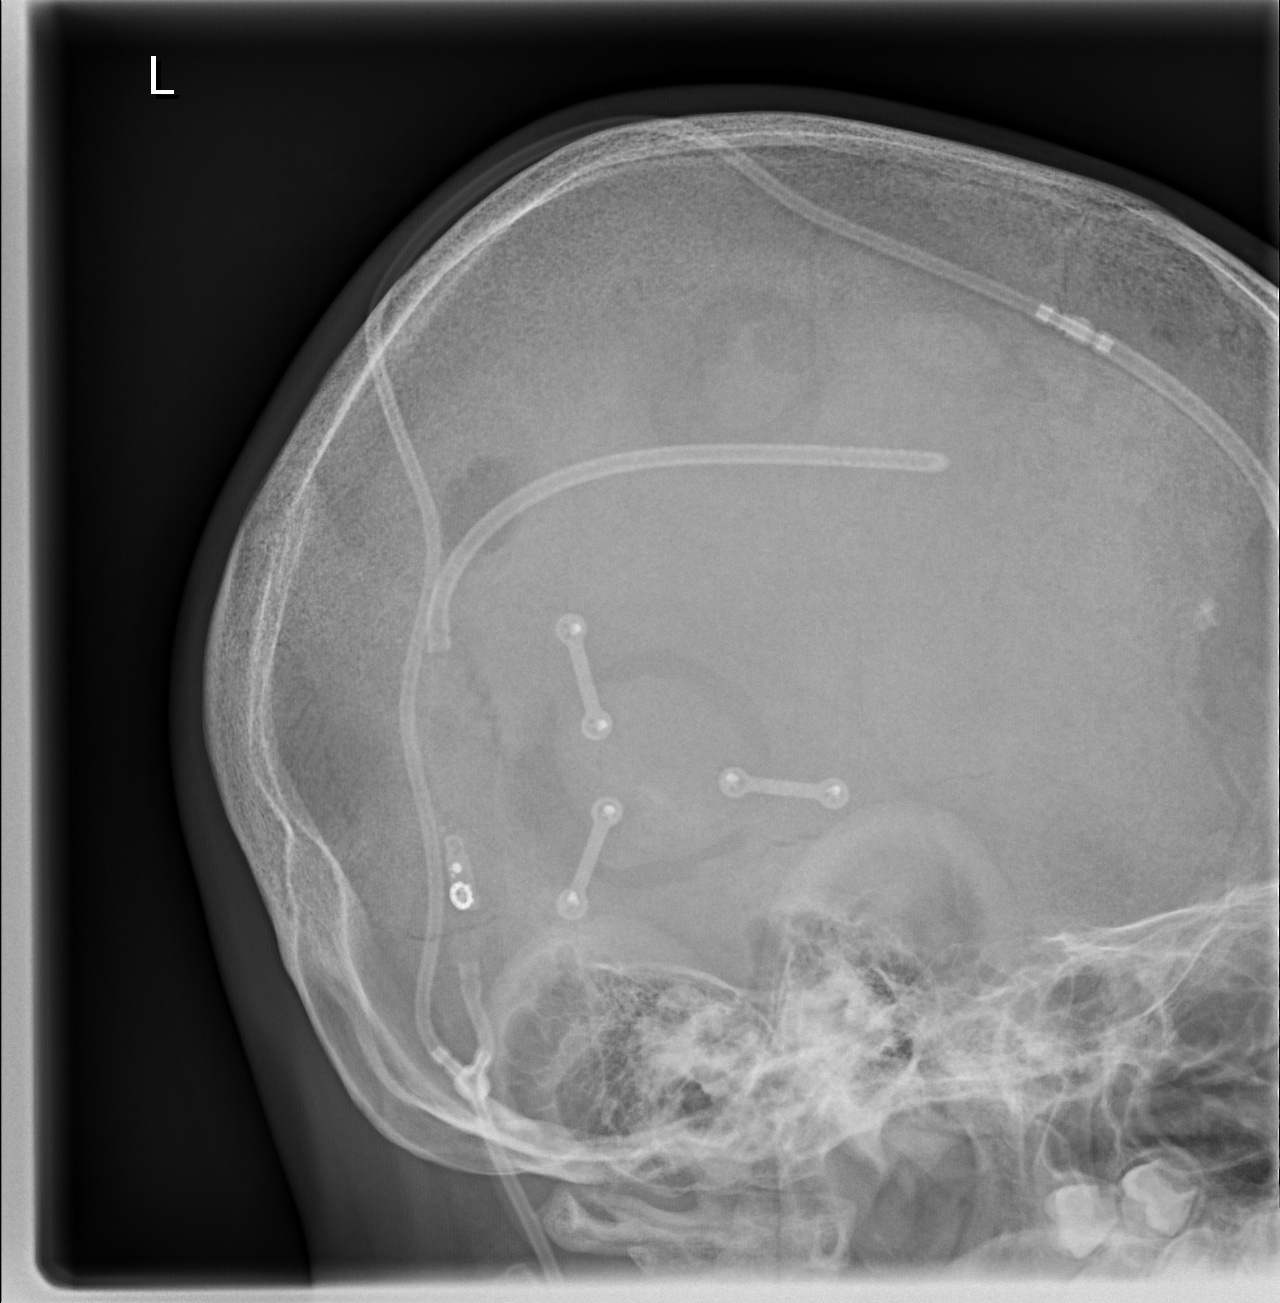Codman Hakim: (433, 853, 486, 926)
